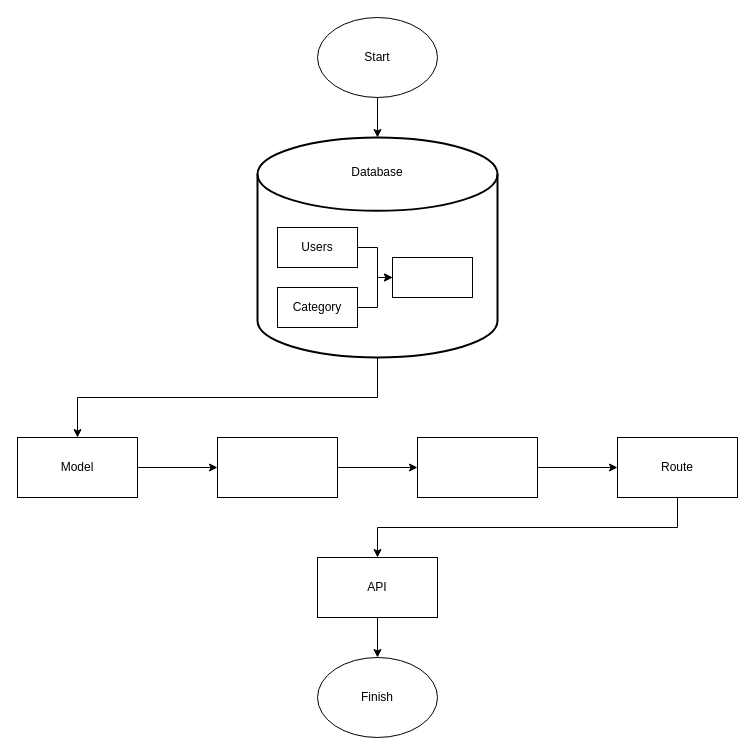
The diagram is 755 pixels wide and 755 high, and some of its shapes have lost their labels. The shapes that lost their labels are listed below. From the top down, each one's box as (x1, y1, x2, y2) in pixels, then its label:
(392, 256, 472, 298): Recipe
(216, 436, 338, 498): Controller
(416, 436, 538, 498): Middleware
